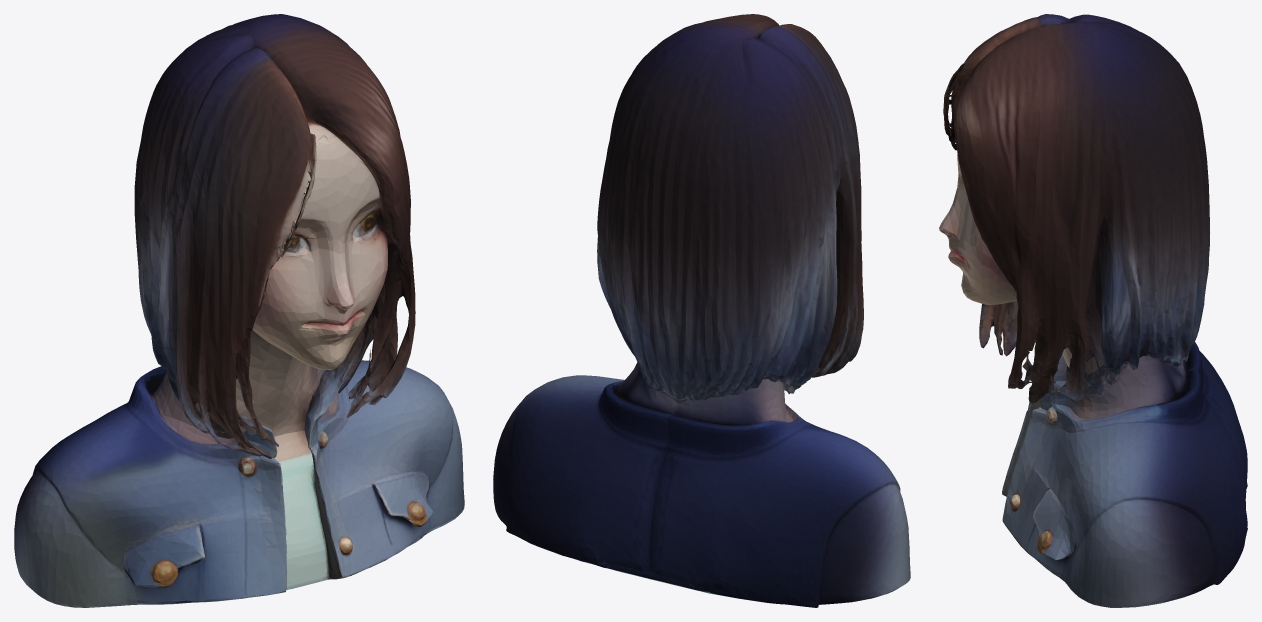
Rendered from rachel_hires_trellis.glb.
3 renders of one model, left to right at view 1: azimuth 30°, elevation 25°; view 2: azimuth 150°, elevation 25°; view 3: azimuth 270°, elevation 25°, orthographic. The views are drawn at different scales.
Size of the model in its own units: 0.8312 by 0.9987 by 0.5707.
1 material, 1 textured.
